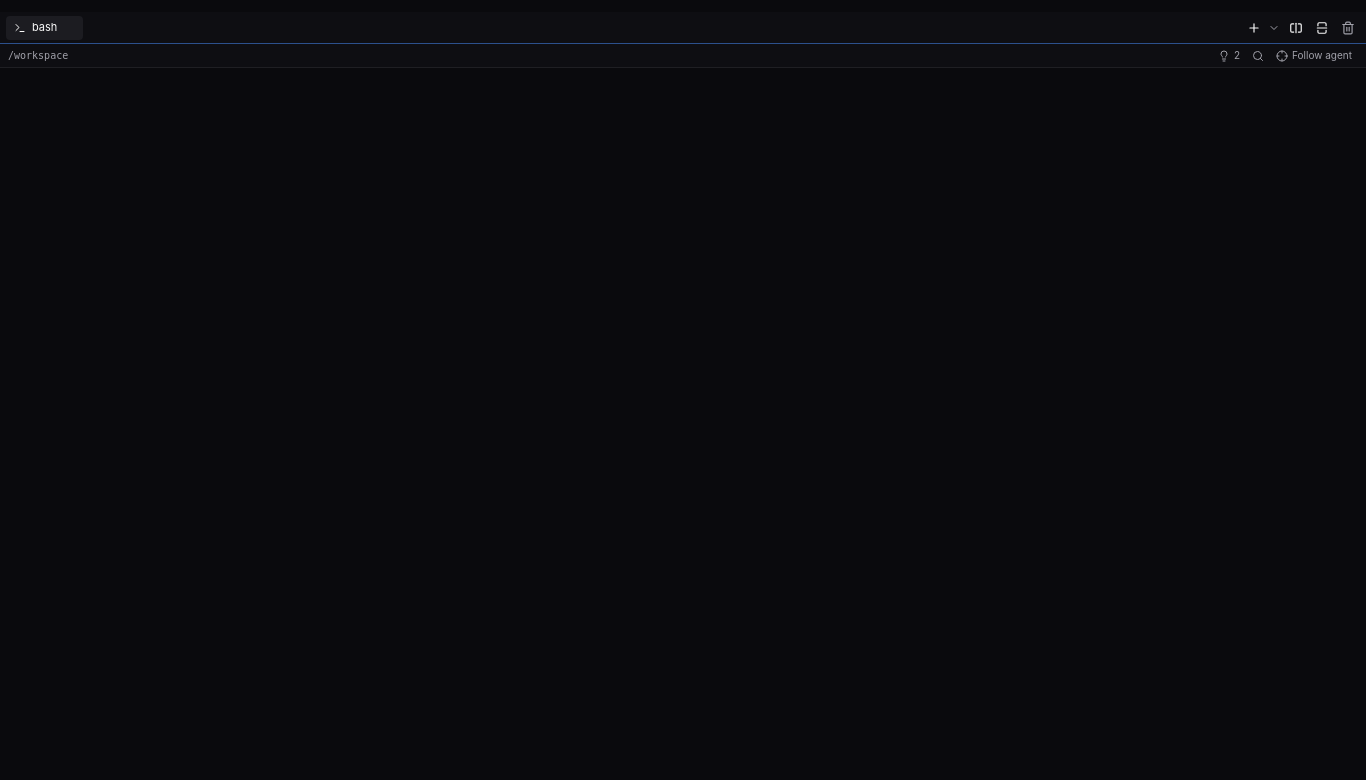
Scenario: live terminal dock integration › seeds a pane and renders bounded right/down splits
The width and height of the screenshot is (1366, 780).
Click the button named "Split terminal right" at (1296, 28), box left=1284, top=16, right=1308, bottom=40
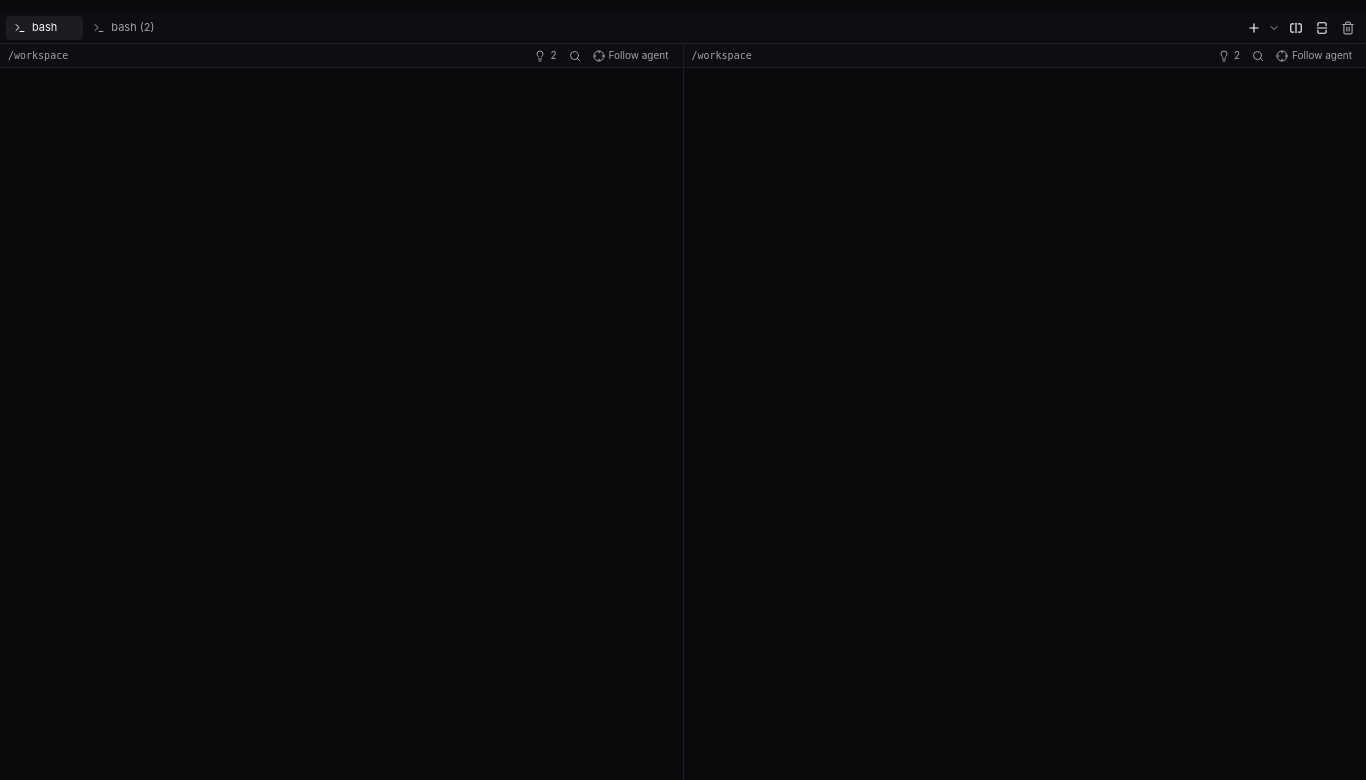
Click the button named "Split terminal down" at (1322, 28), box left=1310, top=16, right=1334, bottom=40
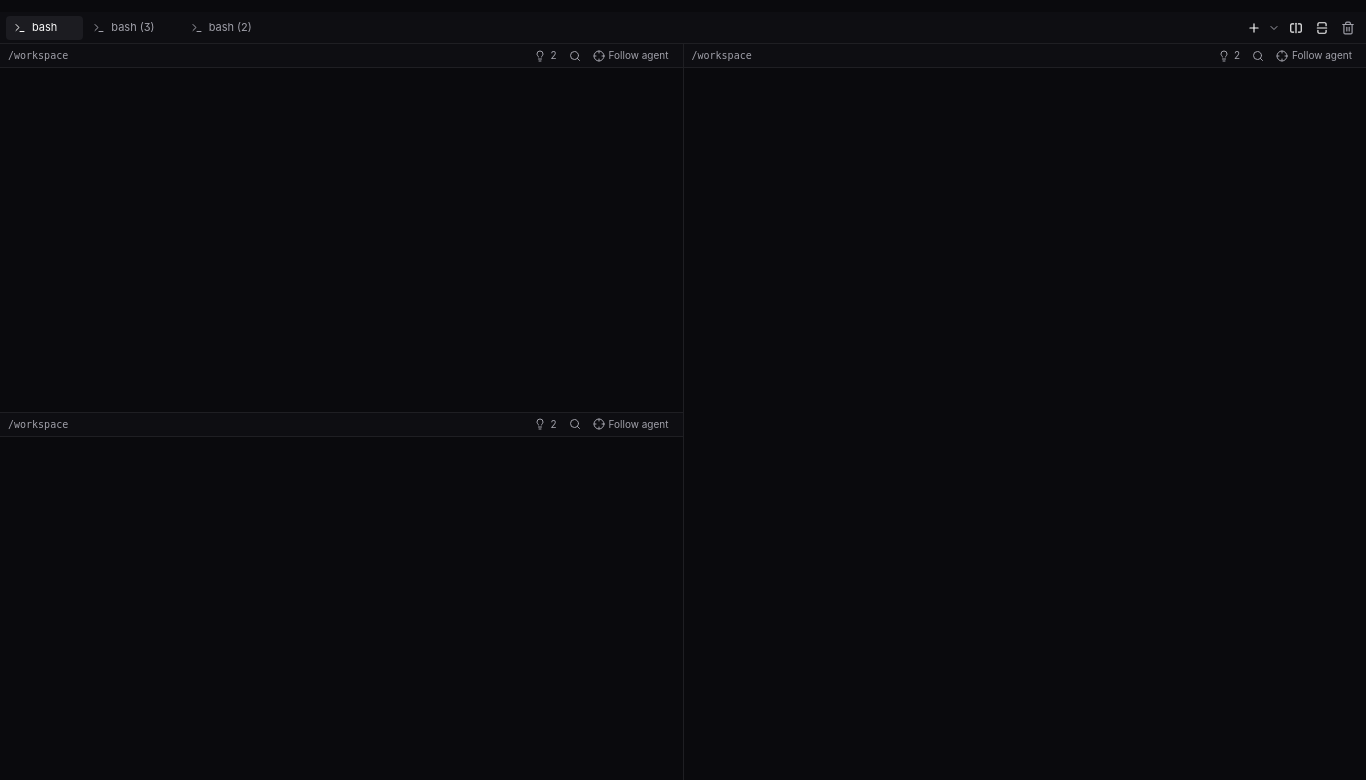
Click the button named "Split terminal right" at (1296, 28), box left=1284, top=16, right=1308, bottom=40
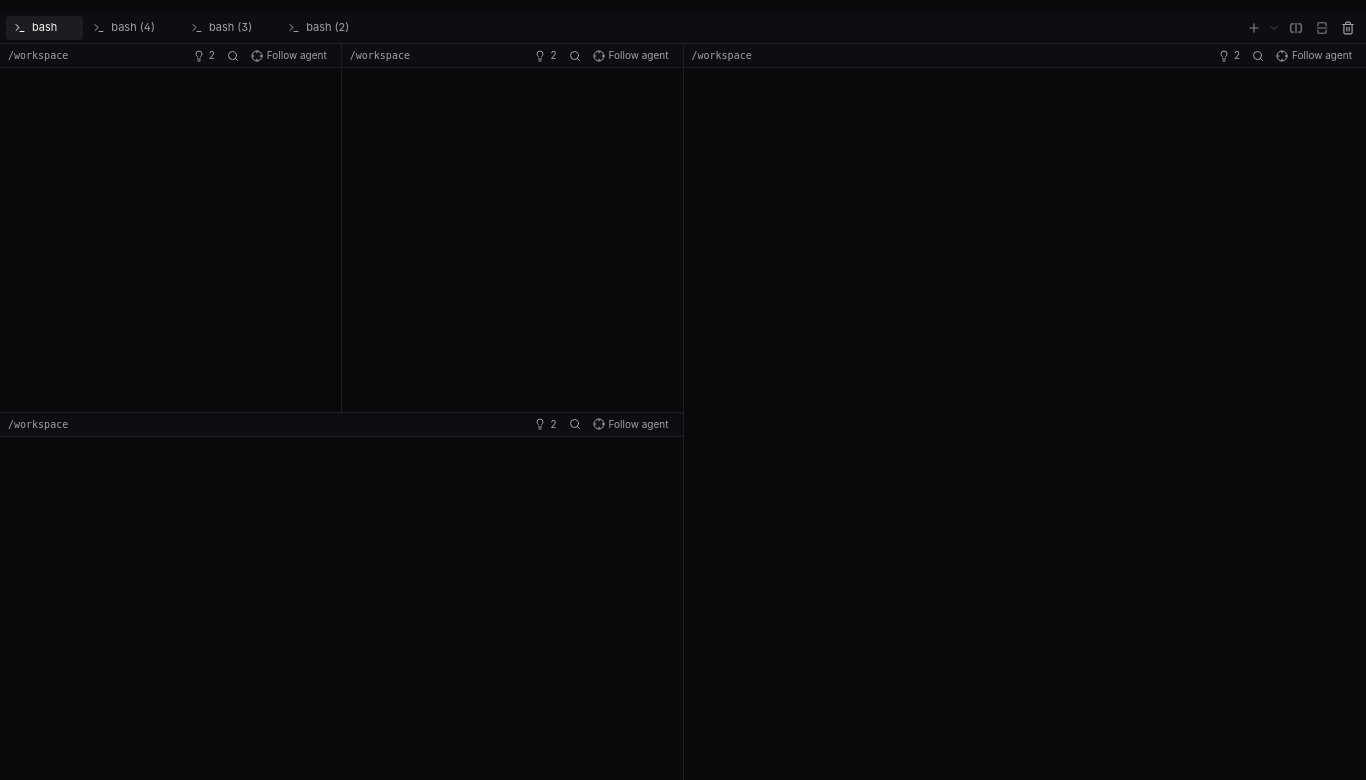
Expected: the button named "Split terminal right" is disabled, left=1284, top=16, right=1308, bottom=40
Expected: the button named "Split terminal down" is disabled, left=1310, top=16, right=1334, bottom=40
